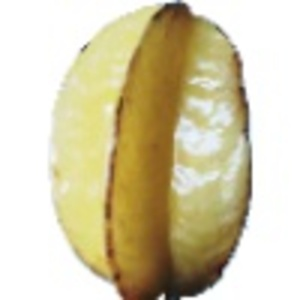carambola: (49, 1, 253, 300)
